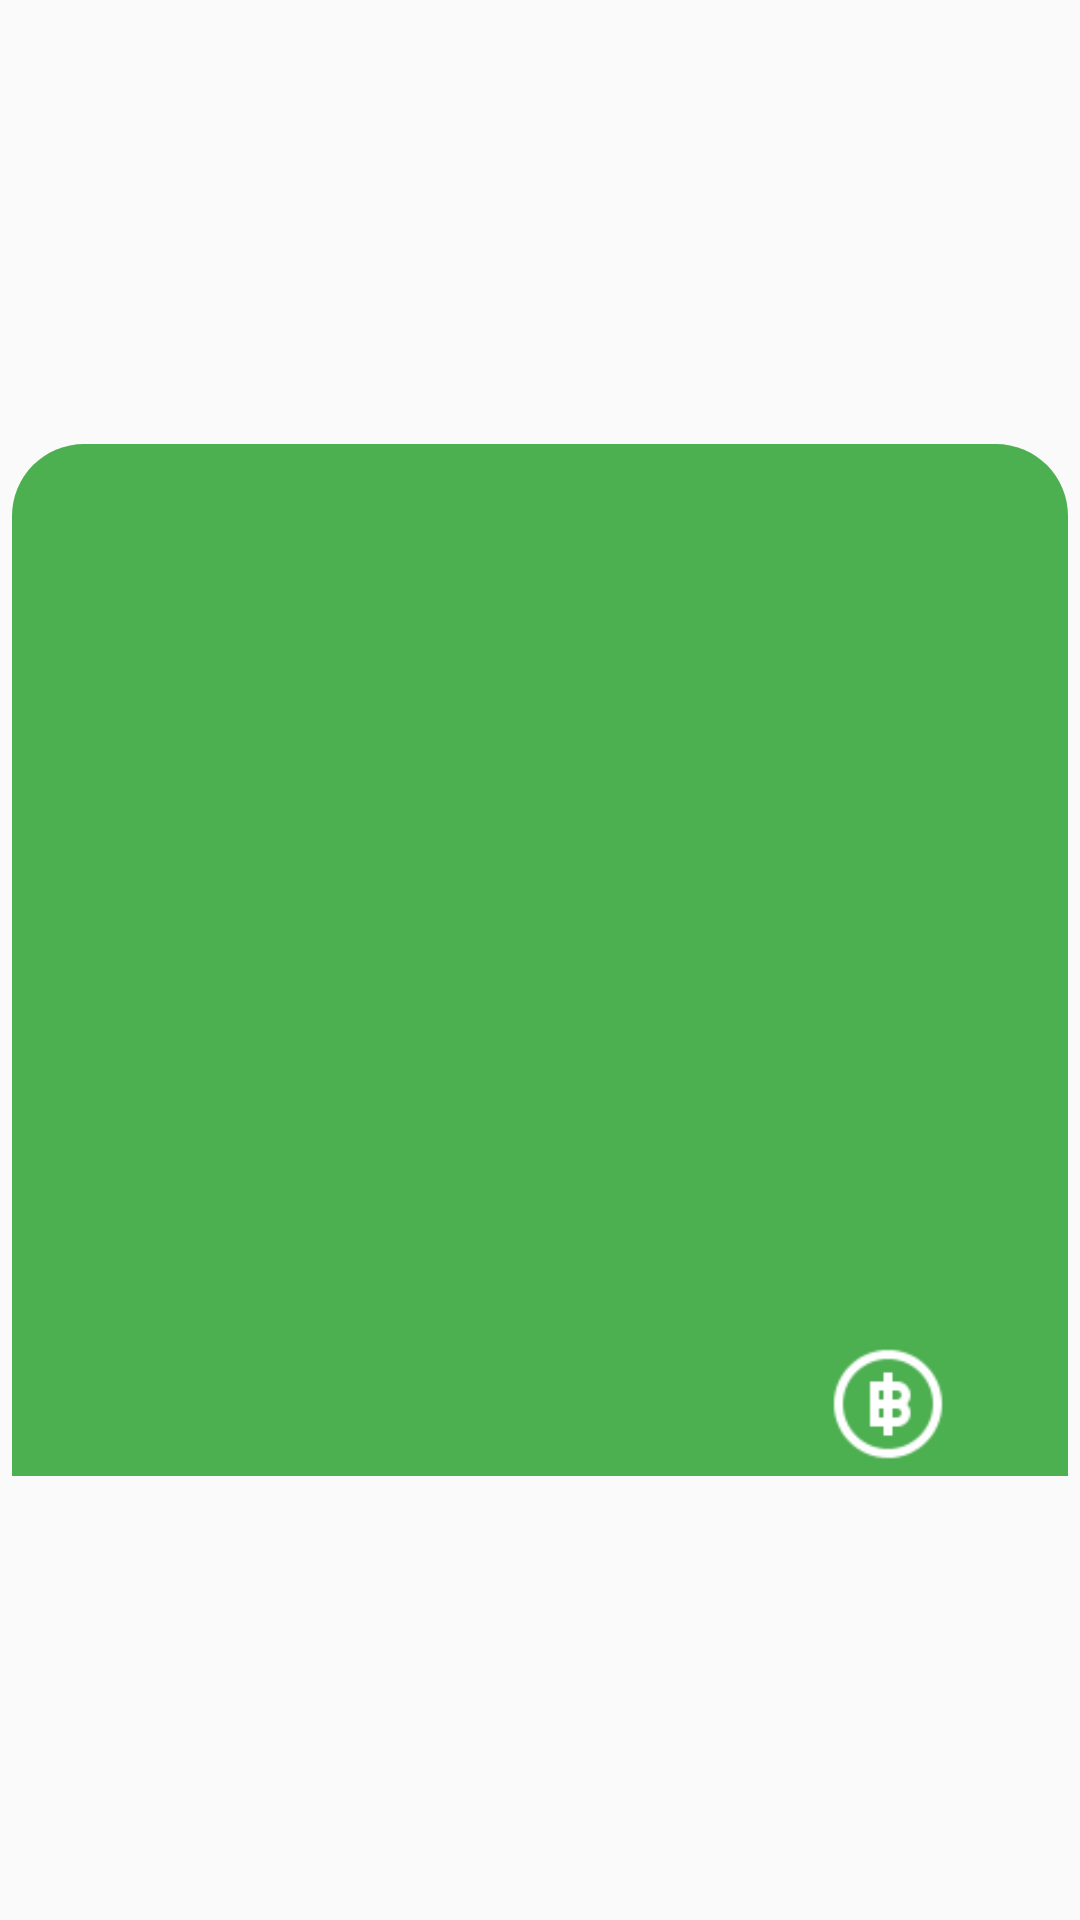

Where icons sit on this 1080 × 1920 app screen, as (x1, y1, x2, y2):
thai baht: (833, 1349, 943, 1459)
